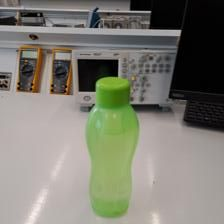bottle: (83, 75, 140, 216)
